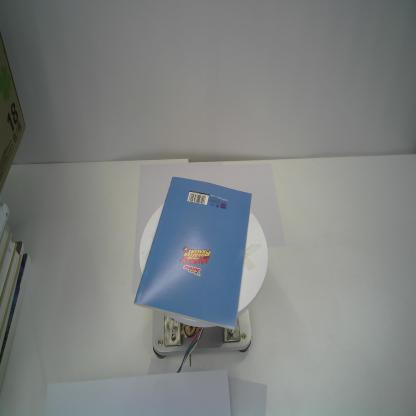Stationery: (133, 176, 253, 333)
